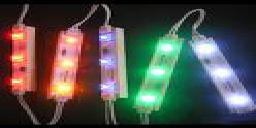LED: (9, 30, 28, 93), (144, 67, 173, 85), (136, 91, 160, 111), (153, 39, 175, 57), (56, 57, 76, 74), (52, 83, 76, 97), (60, 32, 80, 48)
